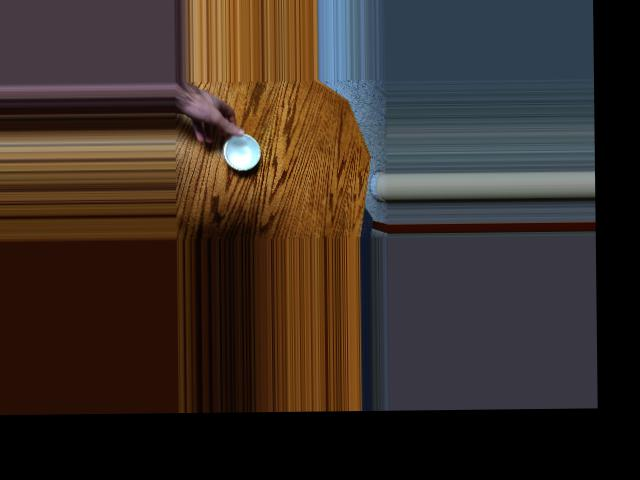cotage: (218, 126, 265, 173)
